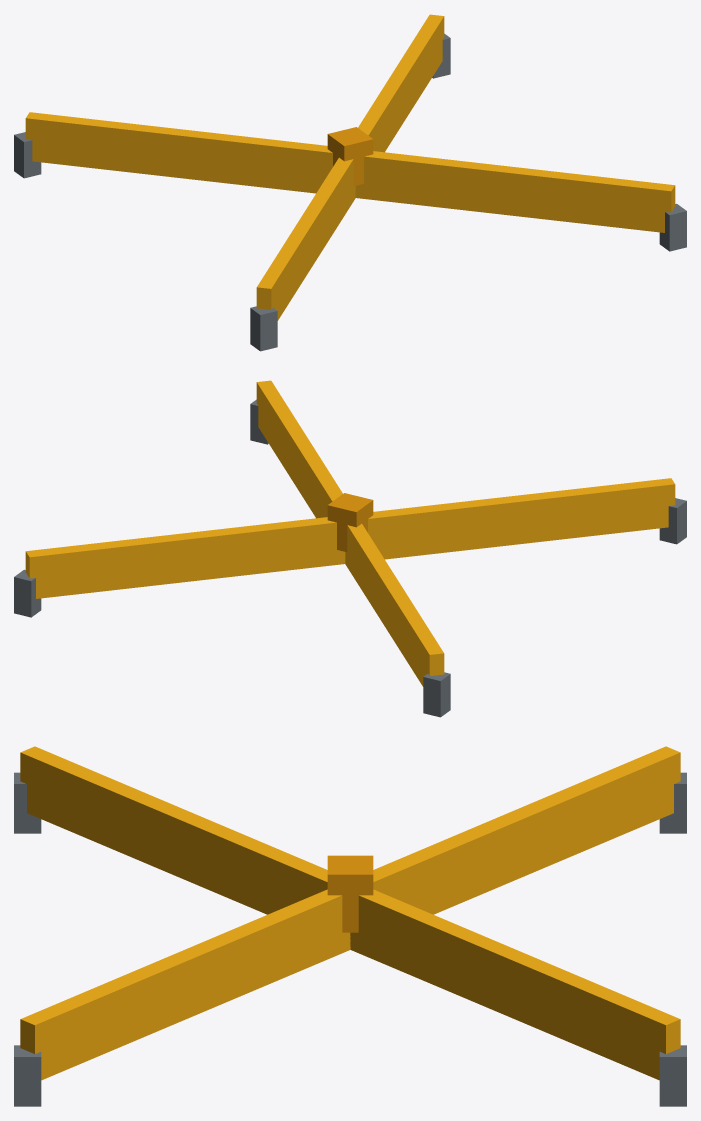
The model's file is body.obj.
The picture shows the model from 3 angles, top to bottom: view 1: azimuth 30°, elevation 25°; view 2: azimuth 150°, elevation 25°; view 3: azimuth 270°, elevation 25°; orthographic projection. The views are drawn at different scales.
Bounding box in the file's own units: 1.47 × 0.24 × 1.47.
